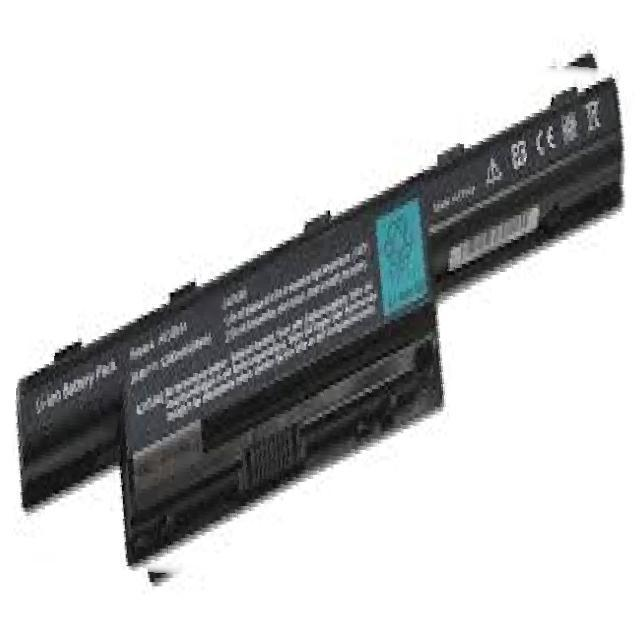Battery: (8, 71, 640, 575)
